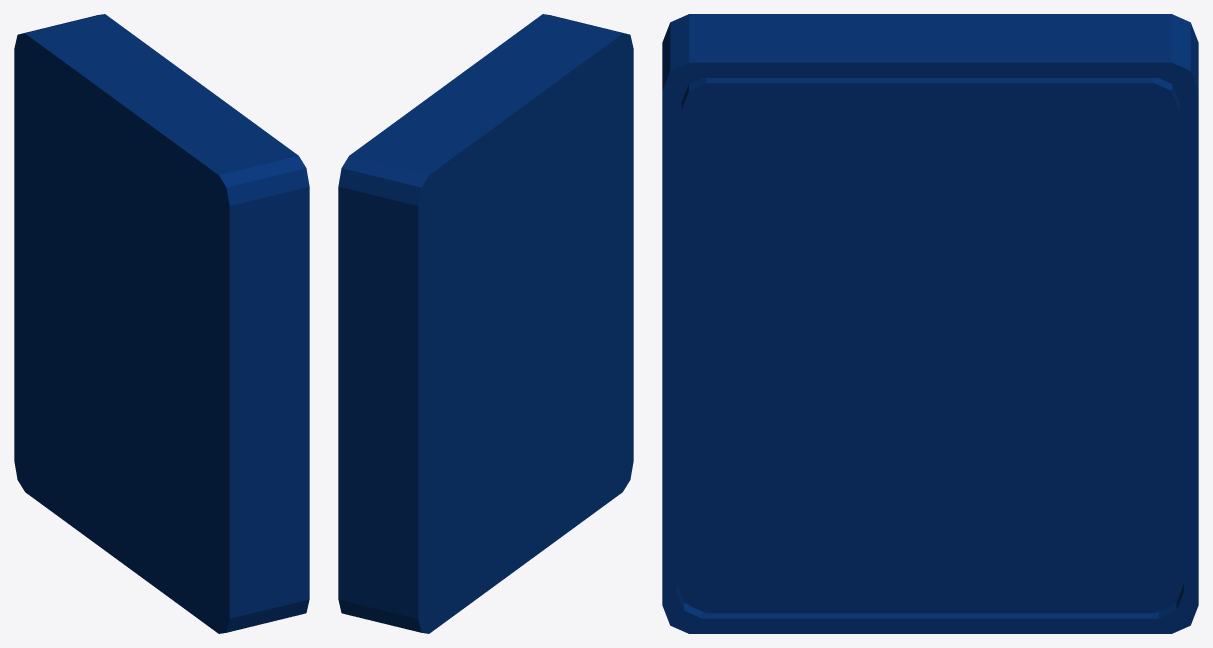
File: Caja de electricidad para substance.fbx
3 renders of one model, left to right at view 1: azimuth 30°, elevation 25°; view 2: azimuth 150°, elevation 25°; view 3: azimuth 270°, elevation 25°, orthographic. The views are drawn at different scales.
Visible parts, largest first — view 1: pCube1; view 2: pCube1; view 3: pCube1.
Boxes of the visible parts, x1,y1,x2,y2 form: pCube1: (14, 14, 309, 633); pCube1: (338, 14, 633, 633); pCube1: (662, 14, 1198, 633).
Size of the model in its own units: 0.2146 by 1.18 by 1.
